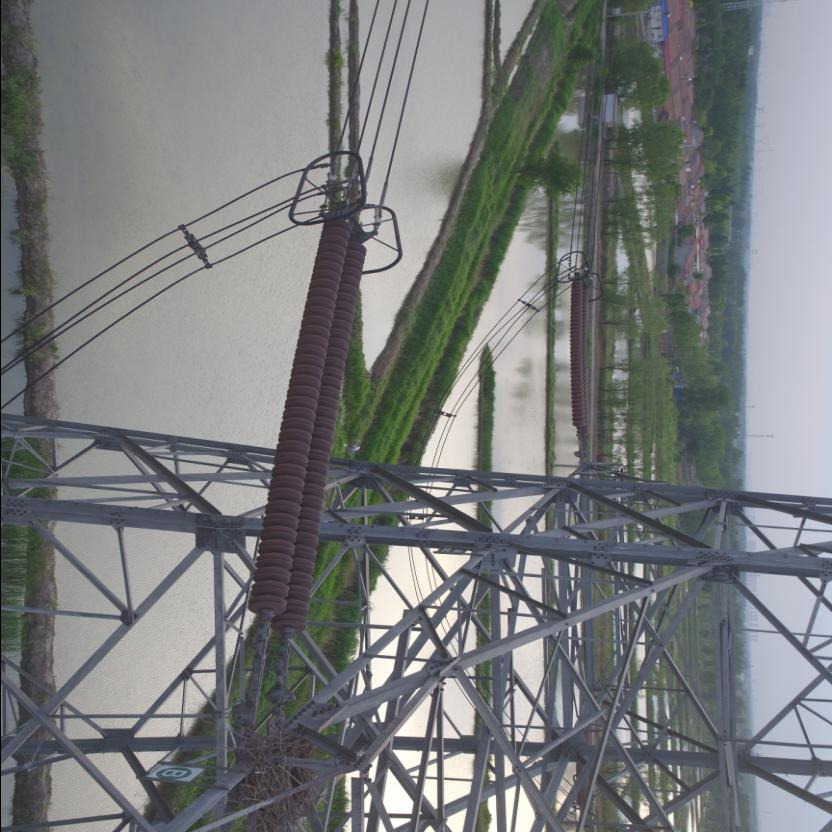insulator: (244, 207, 376, 668), (569, 268, 596, 446)
